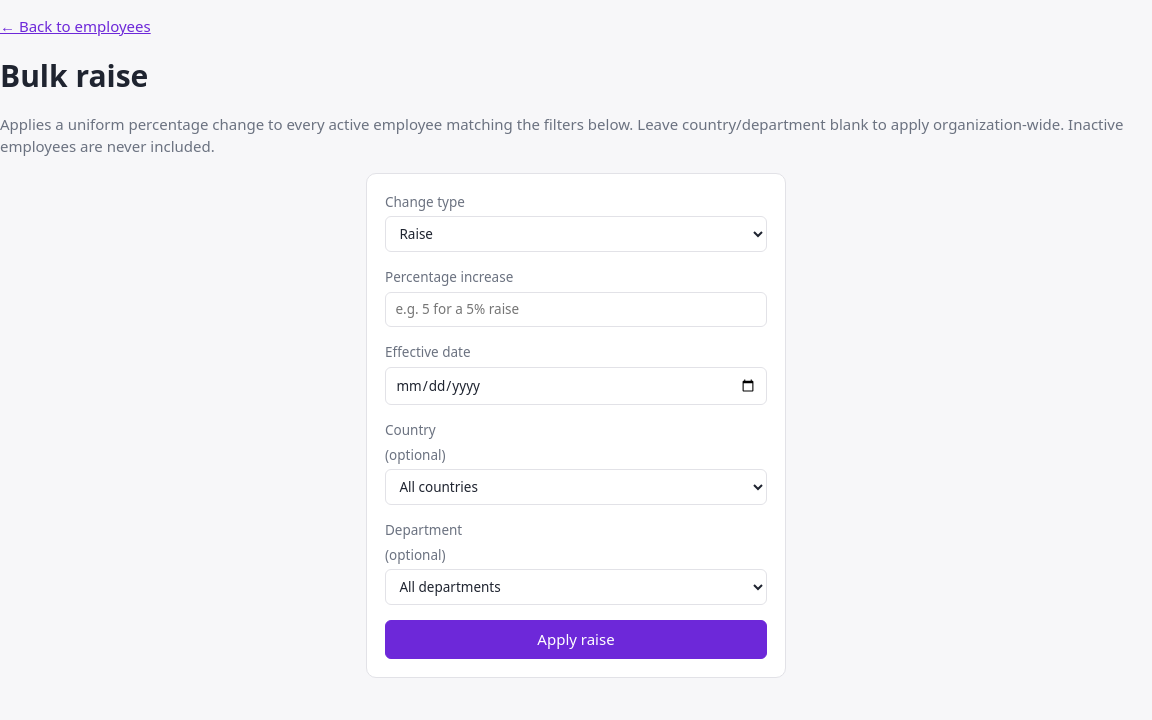
Scenario: BulkRaisePage › confirming applies the raise and renders the result
The image size is (1152, 720).
Type "5" into the number field labelled "Percentage increase" at (576, 309), box [385,292,767,327]
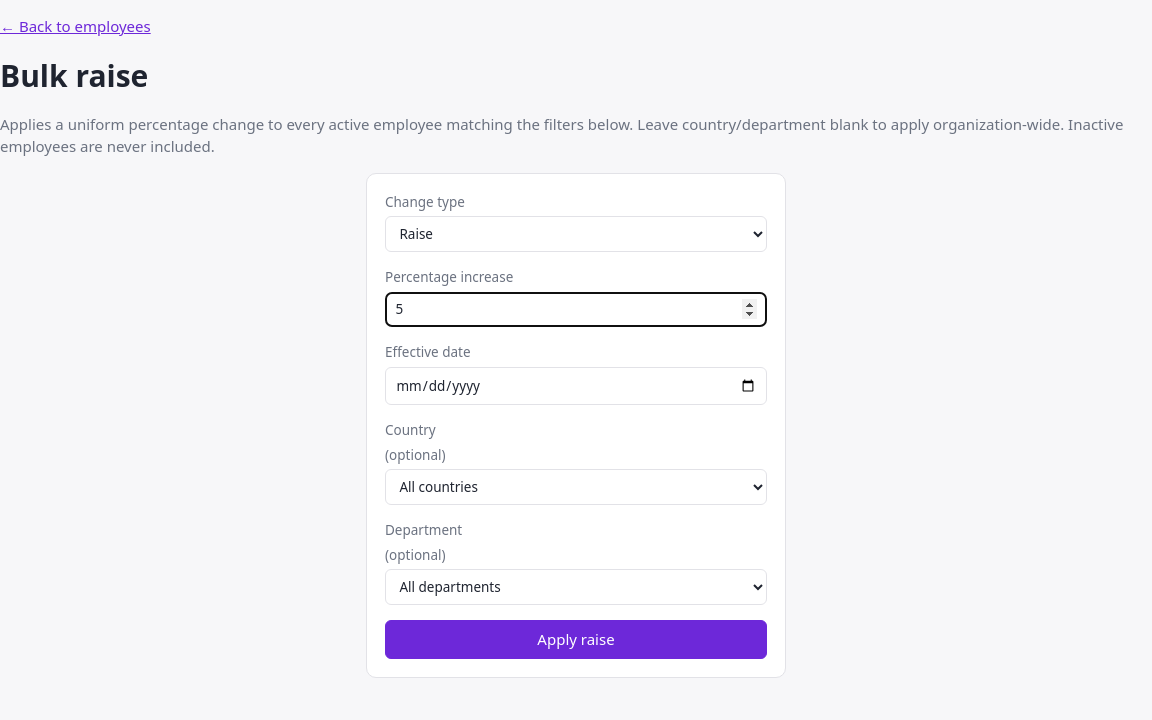
Type "2026-01-01" into the date field labelled "Effective date" at (576, 386), box [385,367,767,405]
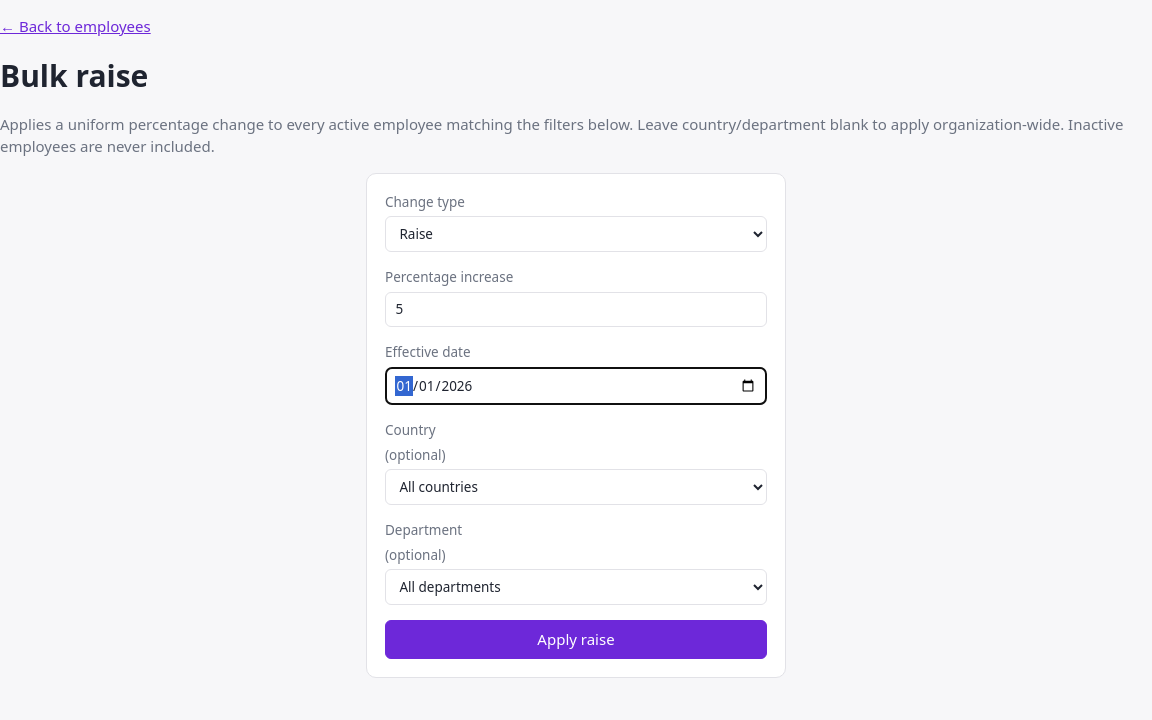
Click the button "Apply raise" at (576, 640), box [385,620,767,659]
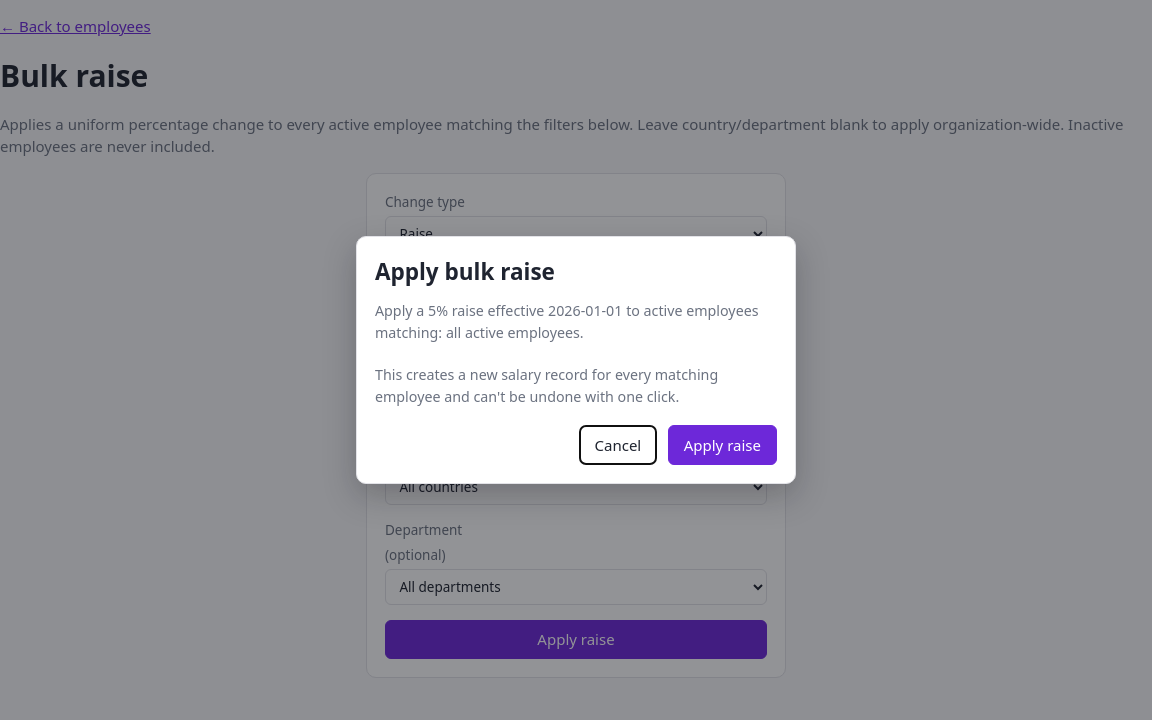
Click the button "Apply raise" at (722, 445), box [668,425,777,465]
(page scrolled)
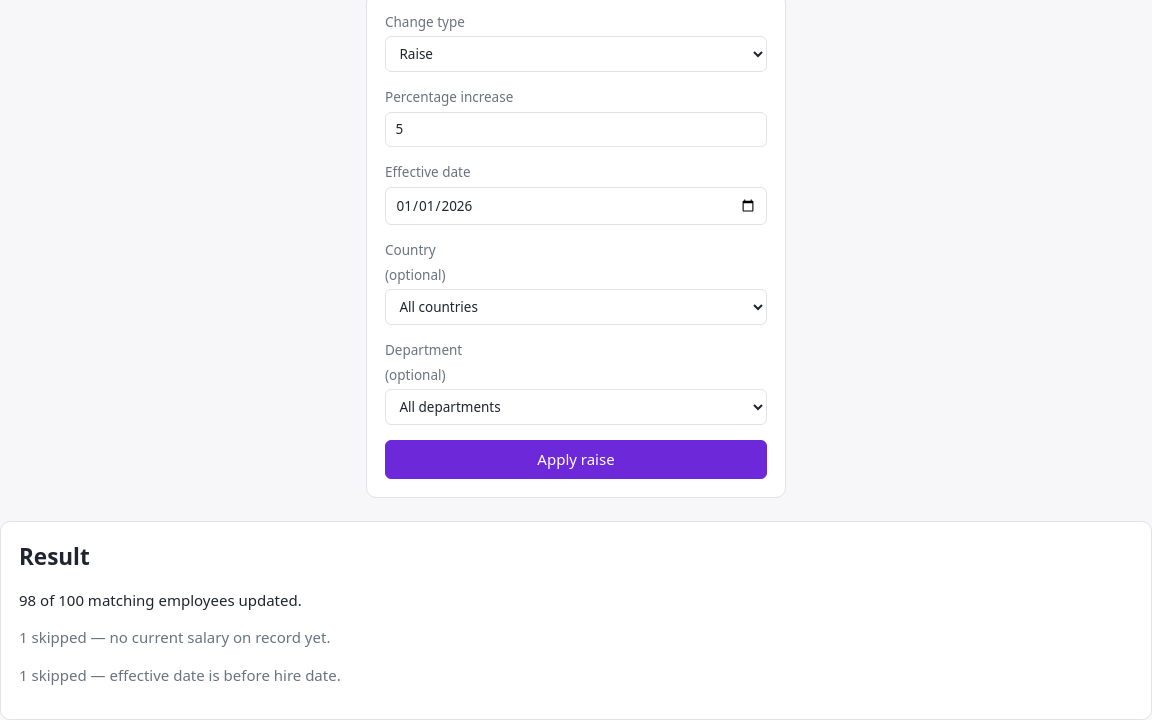
Check: the text "98 of 100 matching employees updated." is shown, box [19,590,302,610]
Check: the text "1 skipped — no current salary on record yet." is shown, box [19,627,330,647]
